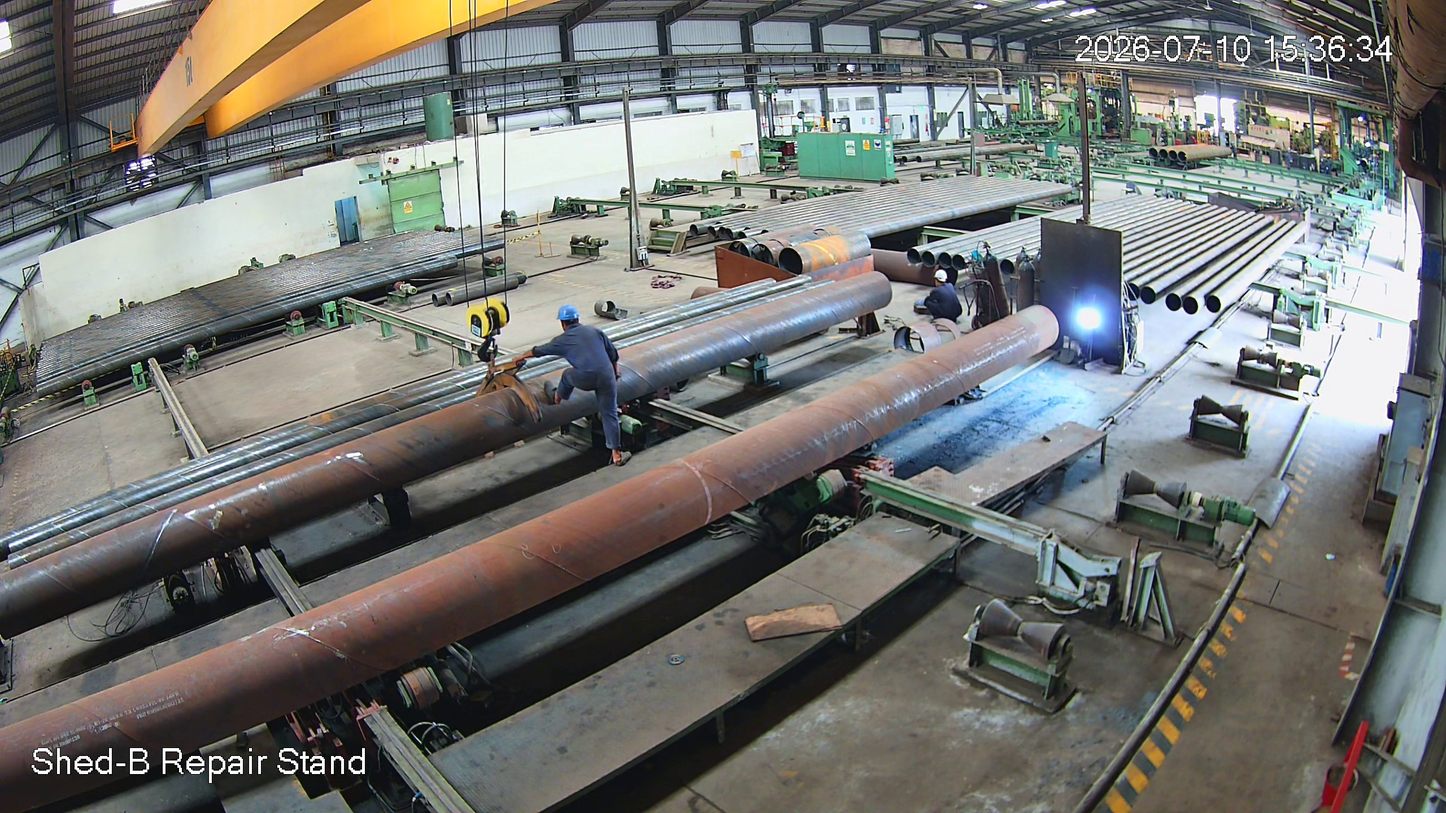Helmet: (554, 298, 589, 344), (933, 267, 955, 297)
Person: (548, 307, 633, 476), (924, 268, 964, 322)
